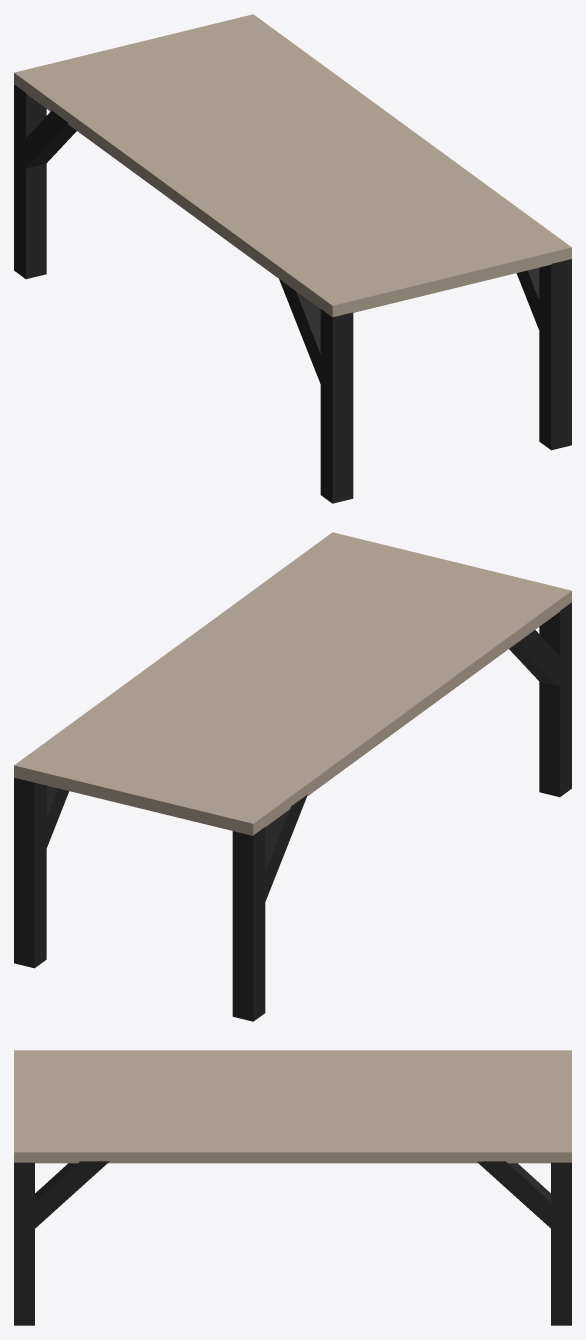
The model's file is GrandeTable_17.fbx.
The picture shows the model from 3 angles, top to bottom: view 1: azimuth 30°, elevation 25°; view 2: azimuth 150°, elevation 25°; view 3: azimuth 270°, elevation 25°; orthographic projection. The views are drawn at different scales.
Visible parts, largest first — view 1: pCube54, pCube52, pCube53, pCube50, pCube60, pCube56, pCube55; view 2: pCube54, pCube50, pCube51, pCube52, pCube60, pCube56, pCube59; view 3: pCube54, pCube51, pCube53, pCube55, pCube59.
Part boxes in pixels (box(x1,y1,x2,y2)): pCube54: box(14, 14, 571, 317); pCube52: box(320, 309, 353, 503); pCube53: box(539, 259, 571, 450); pCube50: box(14, 84, 46, 279); pCube60: box(24, 110, 76, 169); pCube56: box(279, 279, 320, 383); pCube55: box(516, 267, 540, 332); pCube54: box(14, 532, 571, 835); pCube50: box(232, 827, 265, 1021); pCube51: box(14, 777, 46, 968); pCube52: box(539, 602, 571, 797); pCube60: box(264, 794, 307, 904); pCube56: box(509, 630, 559, 686); pCube59: box(45, 785, 69, 851); pCube54: box(14, 1050, 571, 1163); pCube51: box(551, 1162, 571, 1325); pCube53: box(14, 1162, 34, 1325); pCube55: box(33, 1161, 109, 1229); pCube59: box(477, 1161, 550, 1228).
Bounding box in the file's own units: 50.24 × 39.67 × 116.
